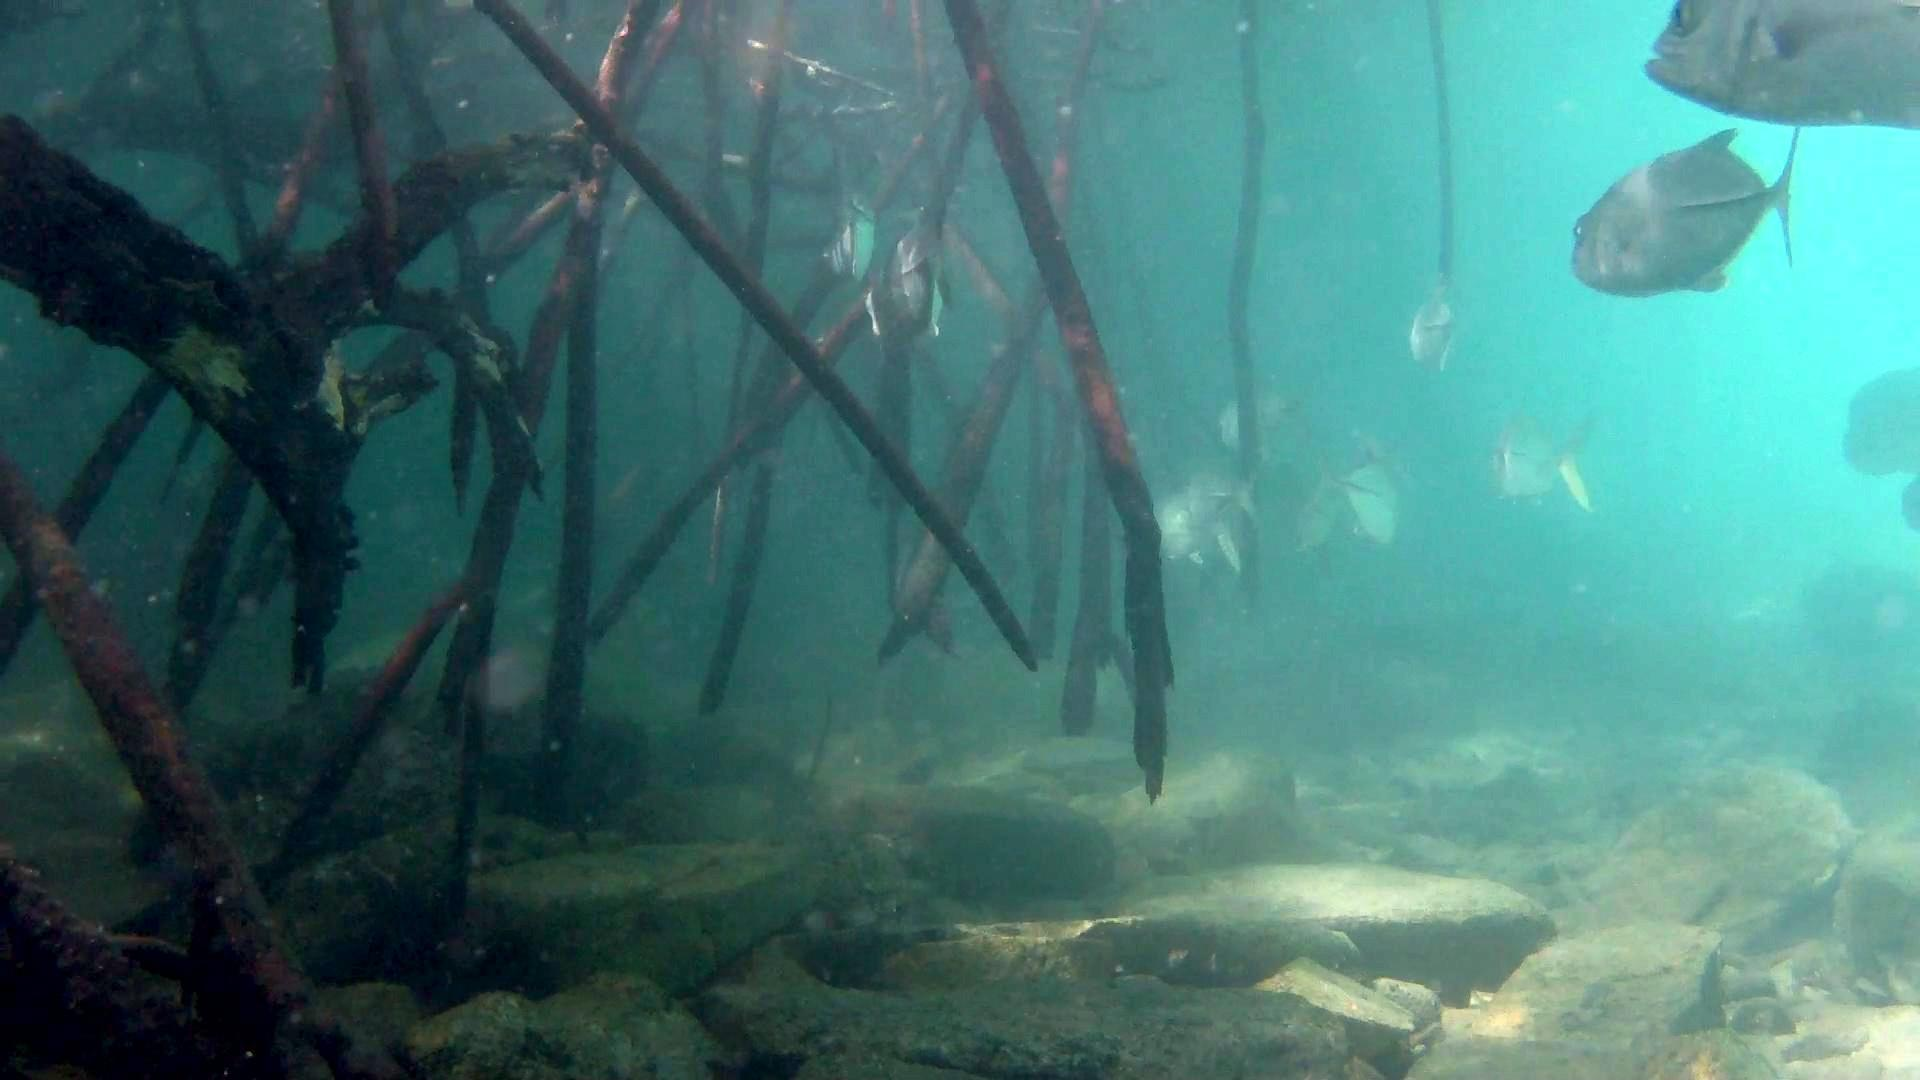caranx: (1558, 119, 1822, 300), (1623, 0, 1920, 142)
